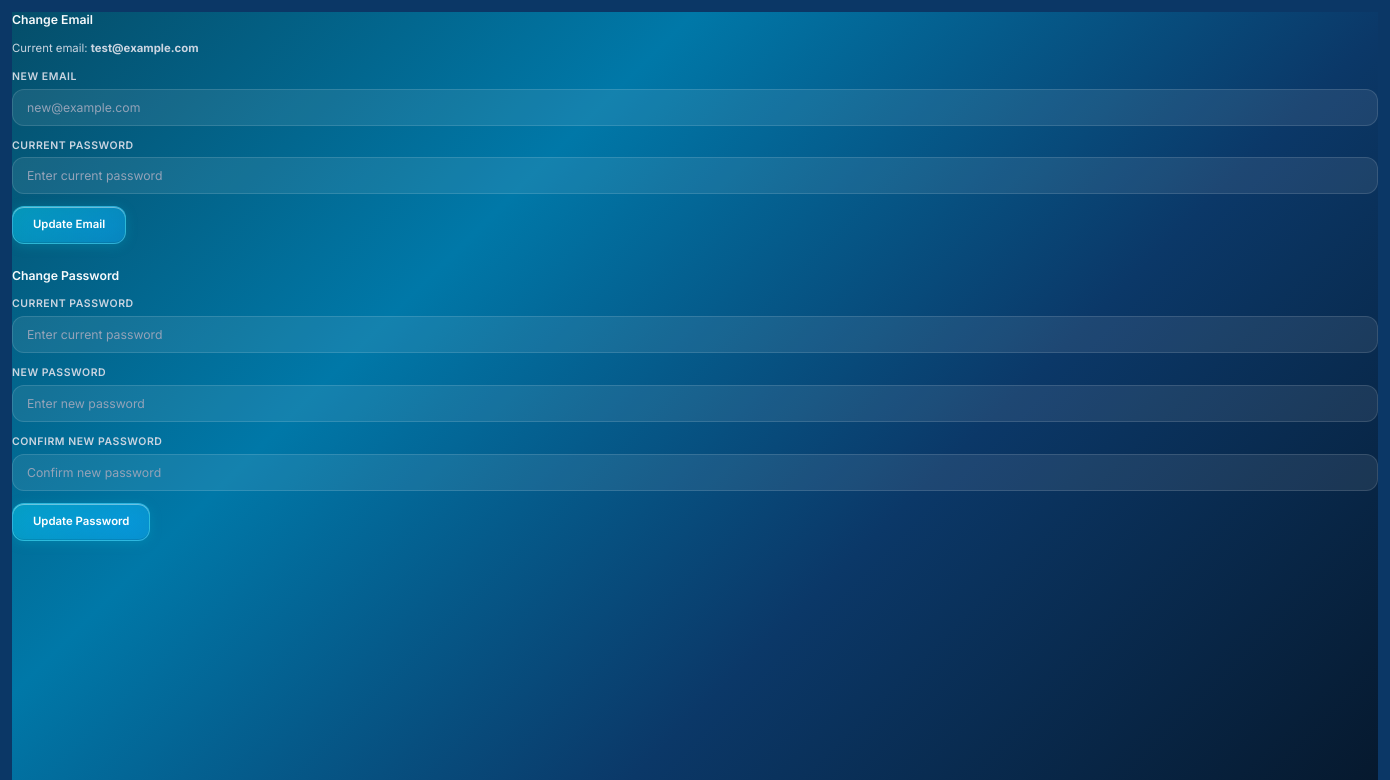
Test case: ProfileSection › shows API error message on password update failure
Type "x-wrong" into the password field labelled "Current Password" below "Change Password" at (695, 335), box [12,316,1378,353]
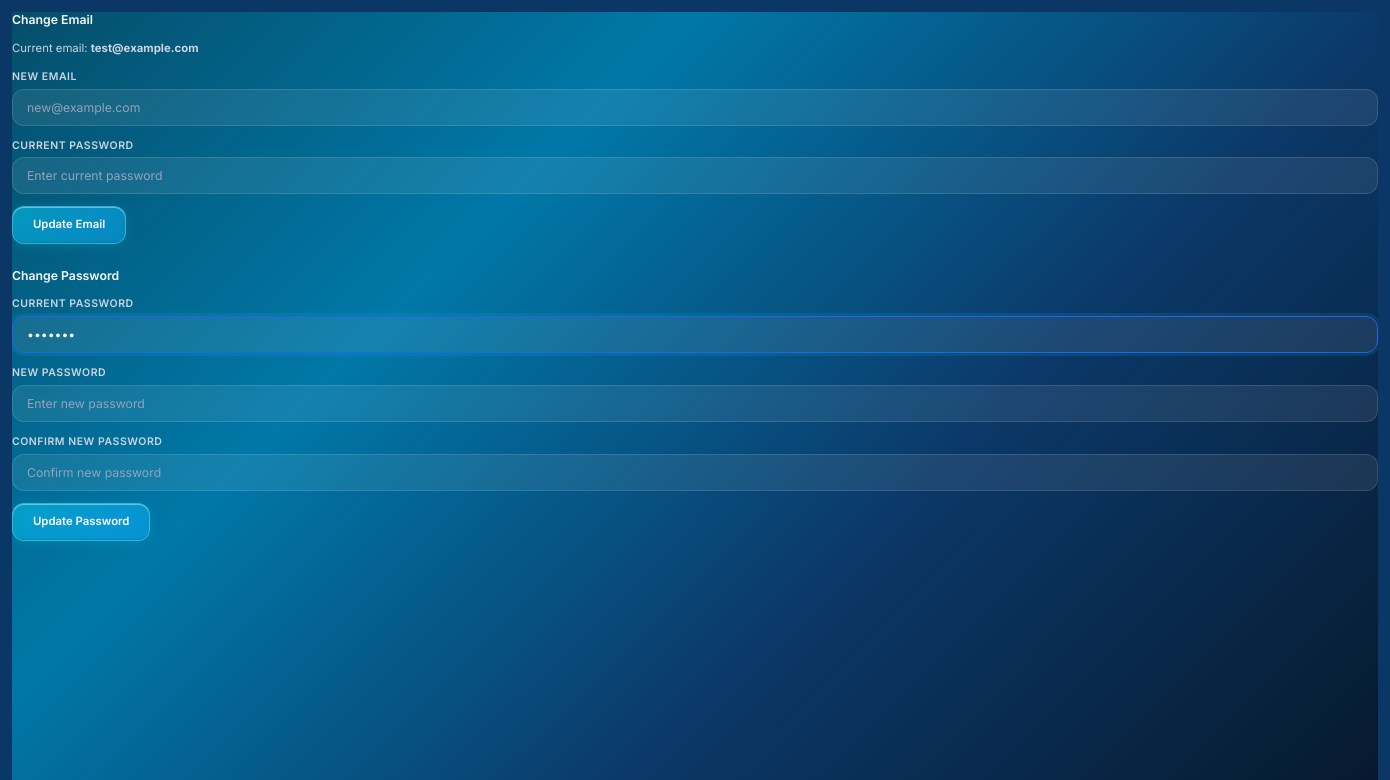
Type "x-new-val" into the password field labelled "New Password" at (695, 403), box [12,385,1378,422]
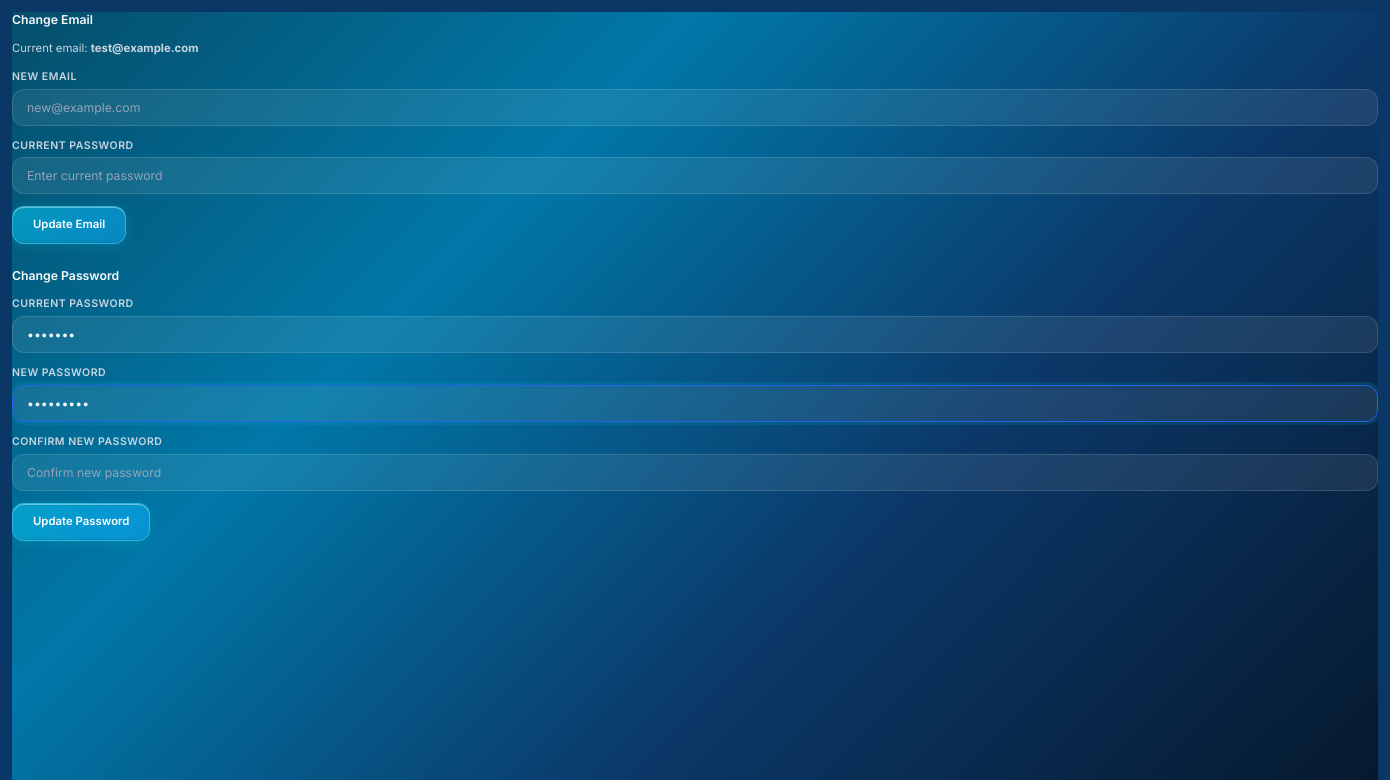
Type "x-new-val" into the password field labelled "Confirm New Password" at (695, 472), box [12,454,1378,491]
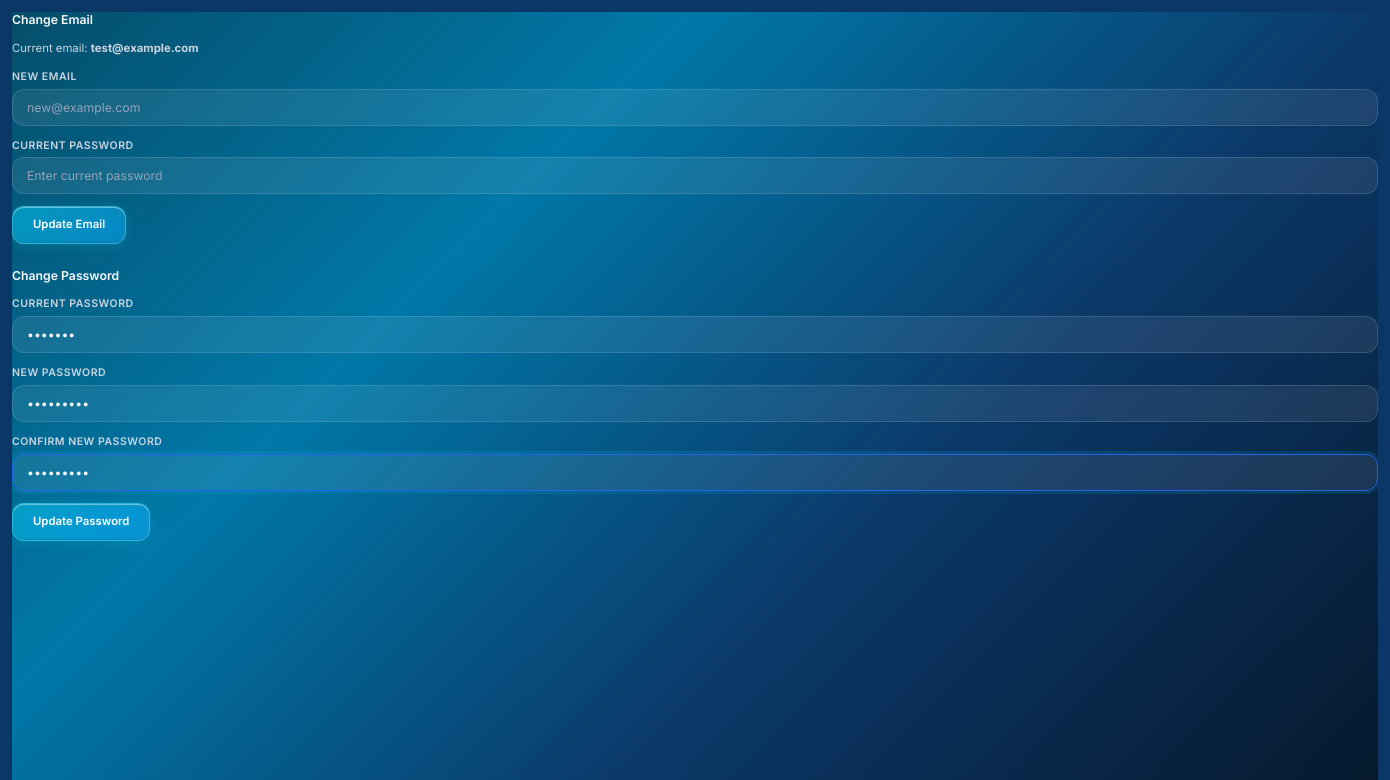
Click the button "Update Password" at (81, 522), box [12,503,150,540]
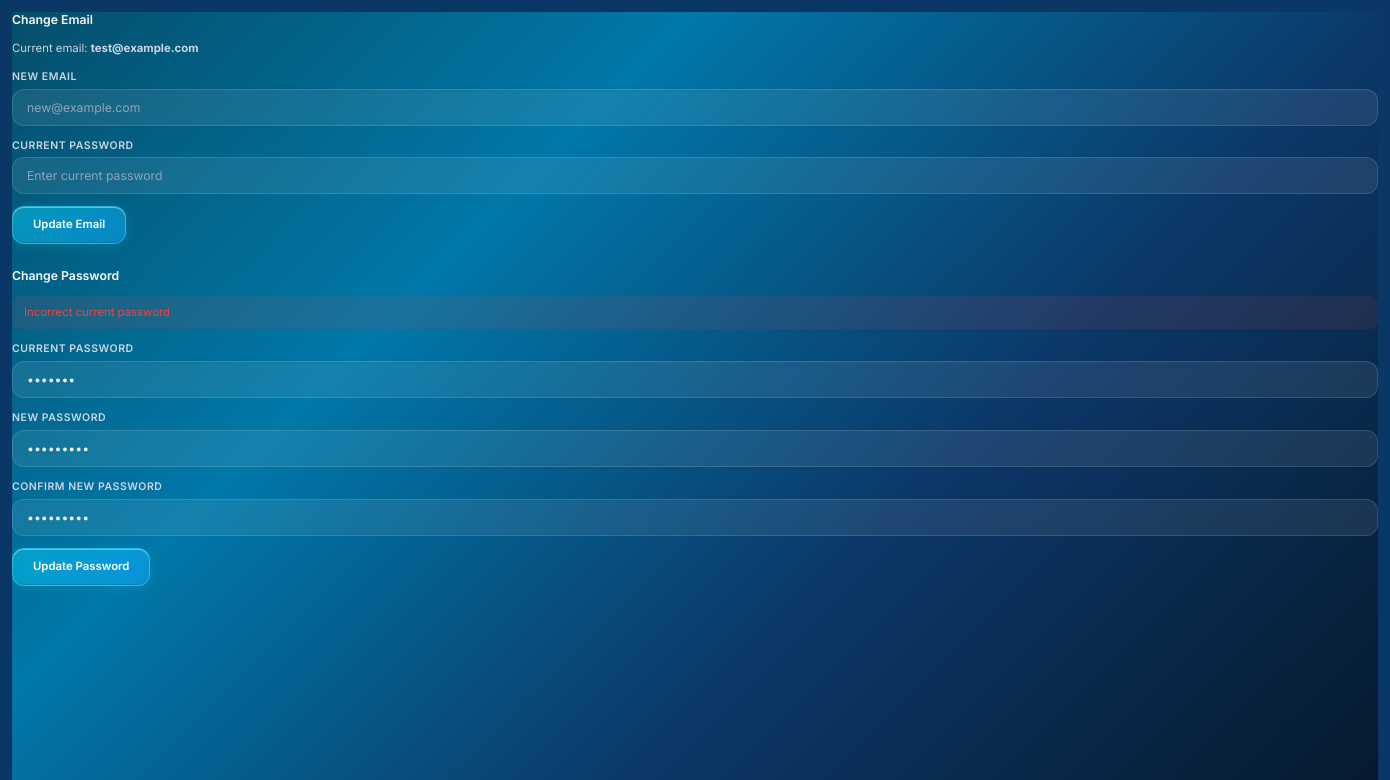
Now the text "Incorrect current password" is shown, box [12,296,1378,329]
